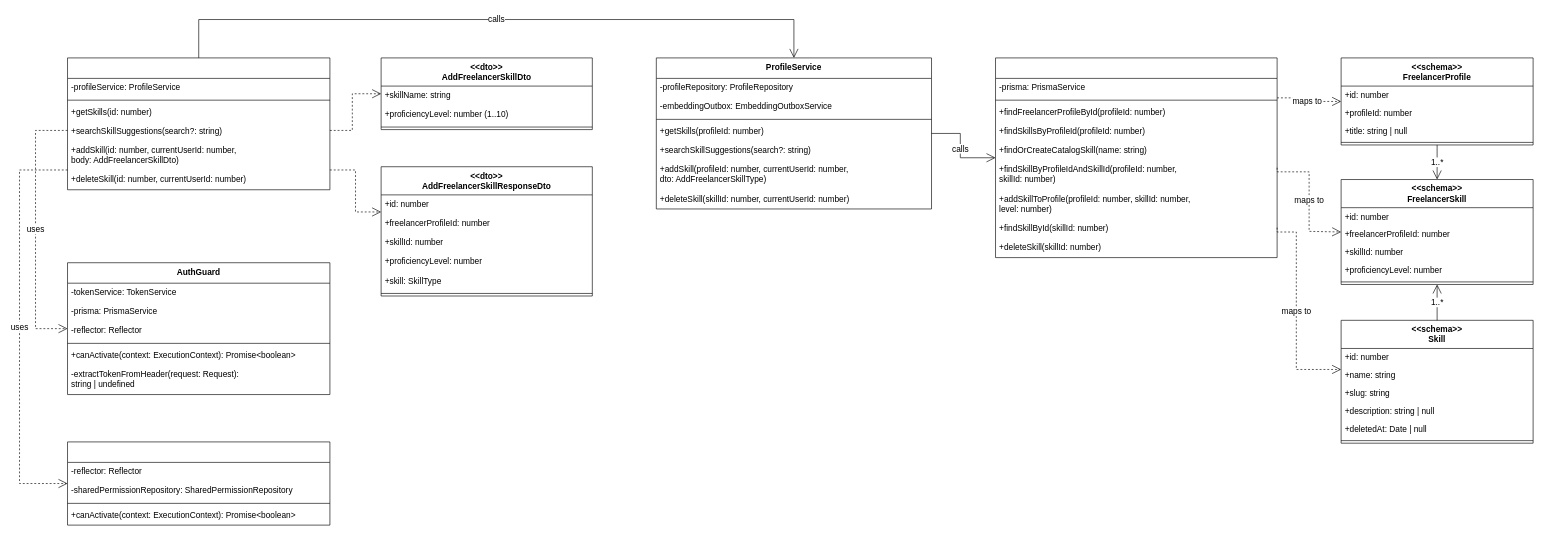
The diagram is 1544 pixels wide and 538 high, and some of its shapes have lost their labels. The shapes that lost their labels are listed below. From the top down, each one's box as (x1, y1, x2, y2) in pixels, then its label:
(67, 57, 330, 190): ProfileController
(995, 57, 1277, 258): ProfileRepository
(67, 441, 330, 525): PermissionGuard
